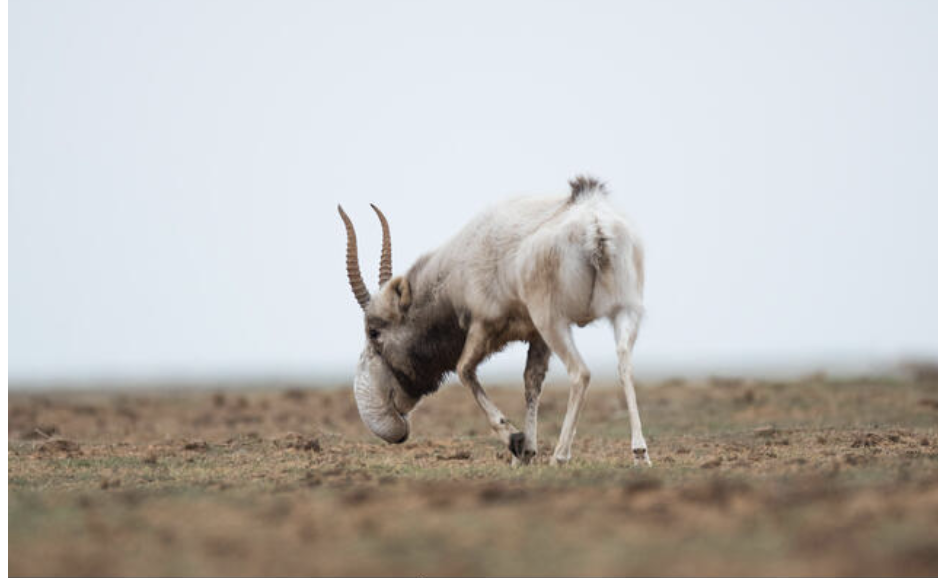saiga: (314, 167, 663, 478)
